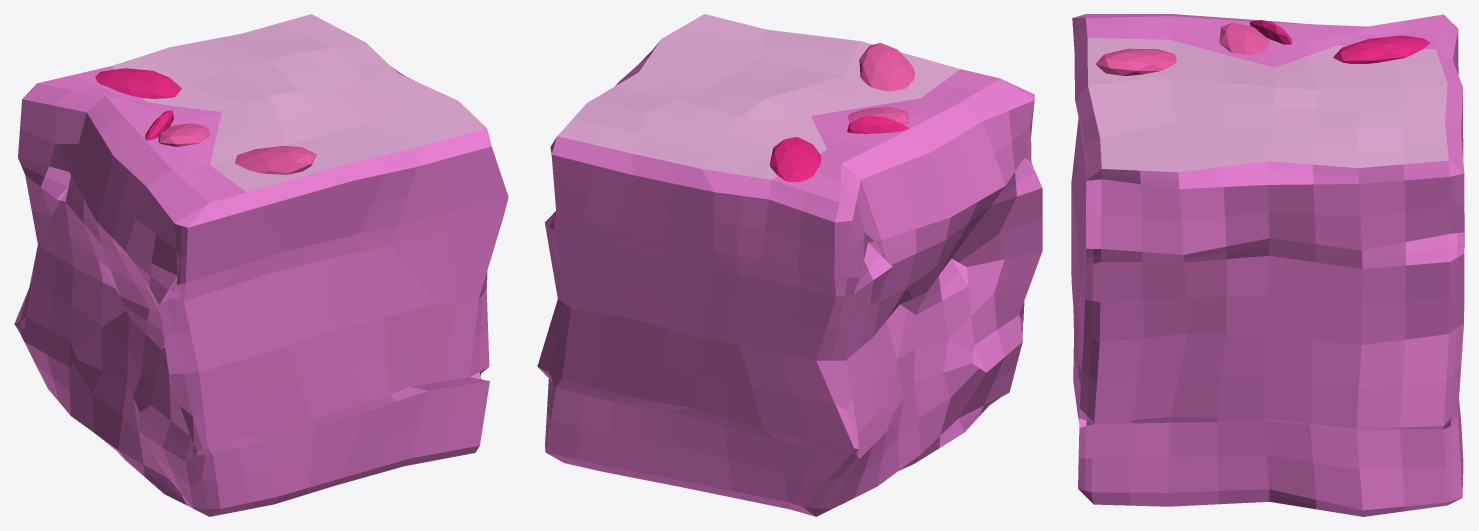
The picture shows the model from 3 angles, left to right: view 1: azimuth 30°, elevation 25°; view 2: azimuth 150°, elevation 25°; view 3: azimuth 270°, elevation 25°; orthographic projection. The views are drawn at different scales.
Visible parts, largest first — view 1: Cube, Icosphere.001, Icosphere, Icosphere.003; view 2: Cube, Icosphere, Icosphere.001, Icosphere.002, Icosphere.003; view 3: Cube, Icosphere.001, Icosphere, Icosphere.003, Icosphere.002.
Boxes of the visible parts, x1,y1,x2,y2 form: Cube: (14,14,508,516); Icosphere.001: (95,68,181,98); Icosphere: (235,146,316,174); Icosphere.003: (158,123,210,146); Cube: (537,14,1042,516); Icosphere: (859,43,914,91); Icosphere.001: (769,137,821,181); Icosphere.002: (847,116,908,133); Icosphere.003: (848,107,908,124); Cube: (1071,14,1464,516); Icosphere.001: (1333,35,1429,63); Icosphere: (1096,48,1176,75); Icosphere.003: (1219,22,1269,54); Icosphere.002: (1250,20,1291,44).
Bounding box in the file's own units: 233 × 212 × 206.
